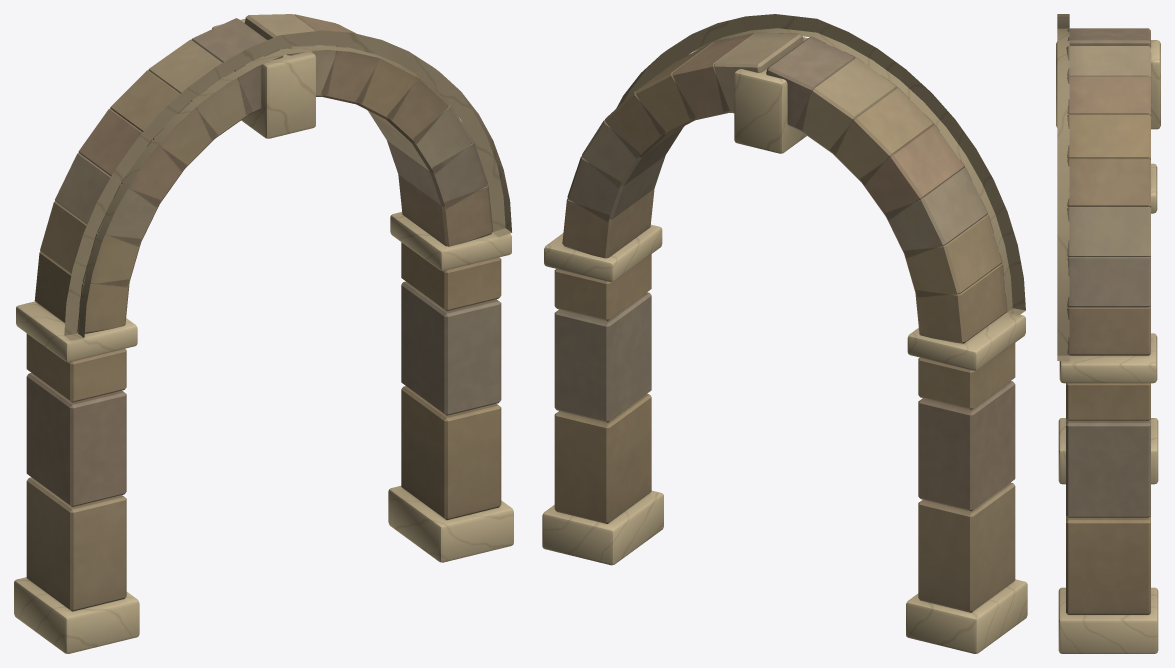
The model's file is arch_door.glb.
The picture shows the model from 3 angles, left to right: view 1: azimuth 30°, elevation 25°; view 2: azimuth 150°, elevation 25°; view 3: azimuth 270°, elevation 25°; orthographic projection. The views are drawn at different scales.
Parts seen in each view (by area): view 1: arch_door; view 2: arch_door; view 3: arch_door.
Part boxes in pixels (<box>): arch_door: <box>14,14,513,653</box>; arch_door: <box>542,14,1027,653</box>; arch_door: <box>1056,14,1160,653</box>.
Size of the model in its own units: 3.96 by 4.74 by 0.86.
1 material, 1 textured.
